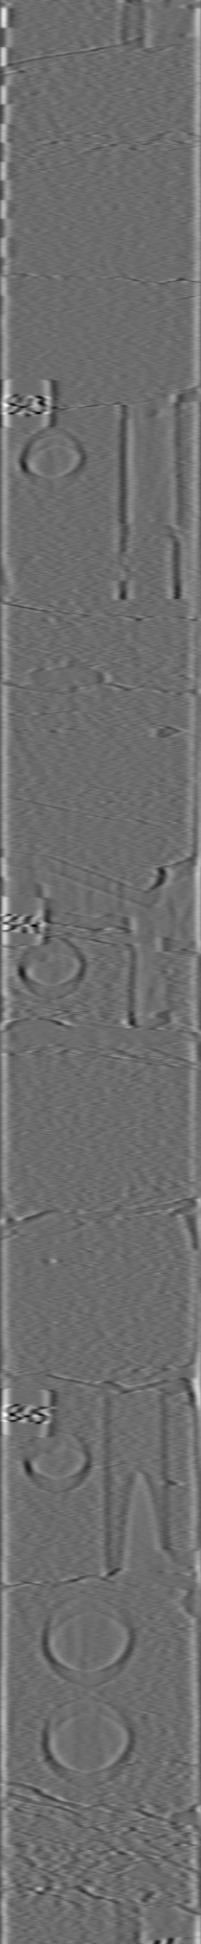hplug: (11, 931, 93, 1003), (17, 422, 96, 493), (17, 1425, 93, 1496)
scal: (38, 1596, 139, 1691), (41, 1695, 139, 1792)
vplug: (113, 395, 194, 609), (97, 1385, 175, 1583), (113, 941, 185, 1033), (109, 1891, 201, 1942), (113, 5, 201, 55)
